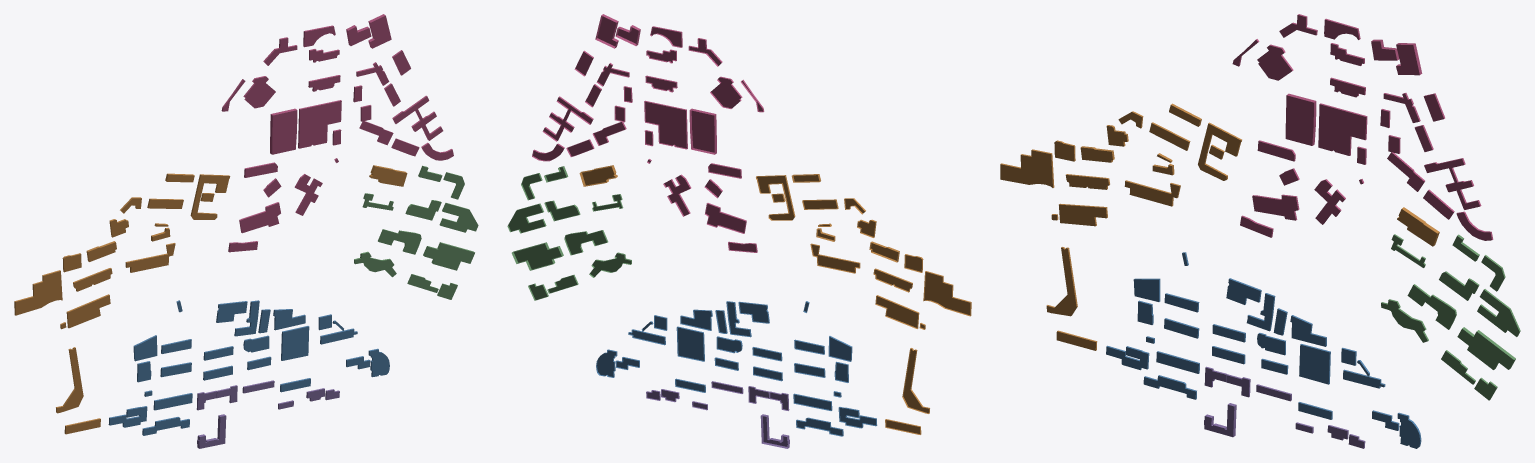
File: buildings_k00.obj
The picture shows the model from 3 angles, left to right: view 1: azimuth 30°, elevation 25°; view 2: azimuth 150°, elevation 25°; view 3: azimuth 330°, elevation 25°; orthographic projection. The views are drawn at different scales.
Visible parts, largest first — view 1: roof1, roof4, roof2, roof3, zone1, zone4, zone2, roof5, zone3, zone5; view 2: roof1, roof4, roof2, zone1, roof3, zone4, zone2, zone3, roof5, zone5; view 3: roof1, roof4, roof2, roof3, zone1, zone4, zone2, roof5, zone3, zone5.
Boxes of the visible parts, box(x1,y1,x2,y2) form: roof1: box(222, 15, 453, 252); roof4: box(110, 301, 389, 435); roof2: box(15, 166, 407, 434); roof3: box(355, 167, 478, 299); zone1: box(221, 14, 452, 251); zone4: box(108, 300, 382, 435); zone2: box(14, 165, 406, 433); roof5: box(198, 381, 339, 448); zone3: box(354, 165, 474, 295); zone5: box(196, 380, 339, 448); roof1: box(533, 16, 762, 251); roof4: box(597, 302, 875, 435); roof2: box(582, 166, 970, 433); zone1: box(532, 14, 764, 252); roof3: box(508, 167, 630, 299); zone4: box(596, 301, 877, 436); zone2: box(579, 165, 971, 434); zone3: box(507, 166, 631, 300); roof5: box(647, 382, 787, 446); zone5: box(646, 381, 789, 448); roof1: box(1232, 15, 1491, 240); roof4: box(1106, 253, 1420, 448); roof2: box(1000, 105, 1437, 350); roof3: box(1381, 235, 1519, 400); zone1: box(1239, 14, 1493, 239); zone4: box(1106, 252, 1421, 446); zone2: box(1000, 103, 1439, 350); roof5: box(1204, 367, 1363, 448); zone3: box(1381, 234, 1520, 400); zone5: box(1204, 366, 1365, 448).
Size of the model in its own units: 1083 by 875 by 8.5.
